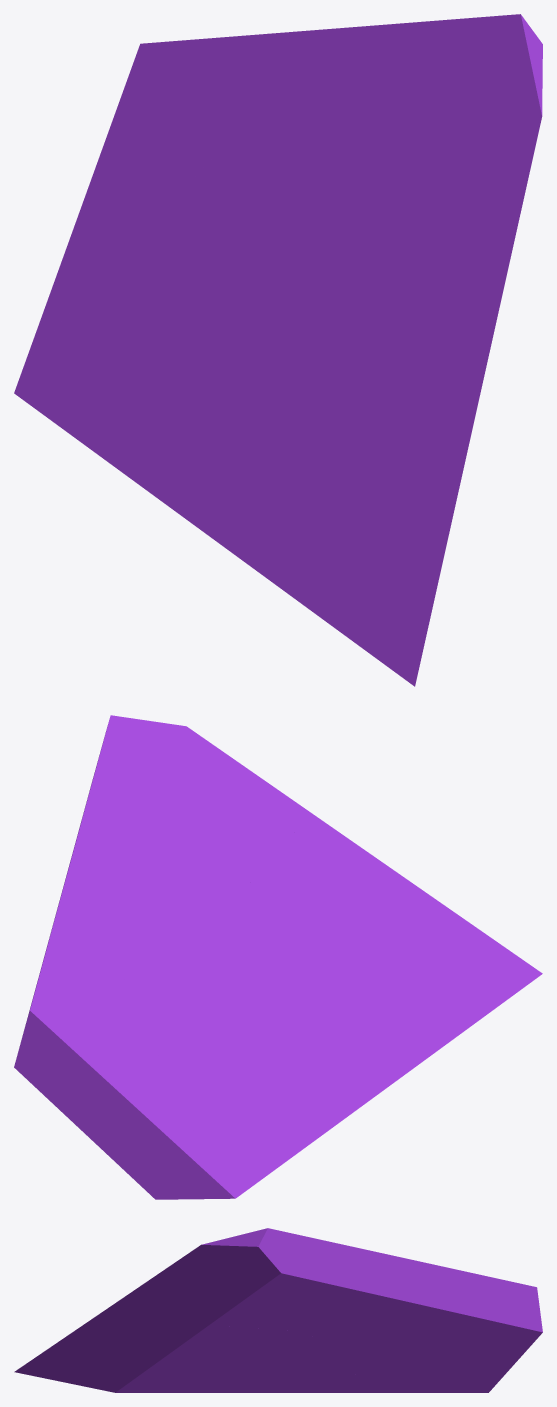
Rendered from Window_55_2_chunks.fbx.
3 renders of one model, top to bottom at view 1: azimuth 30°, elevation 25°; view 2: azimuth 150°, elevation 25°; view 3: azimuth 270°, elevation 25°, orthographic. The views are drawn at different scales.
Parts seen in each view (by area): view 1: Window_55_2_5, Window_55_2_2, Window_55_2_0, Window_55_2_1, Window_55_2_3, Window_55_2_6; view 2: Window_55_2_5, Window_55_2_2, Window_55_2_1, Window_55_2_0, Window_55_2_3, Window_55_2_6; view 3: Window_55_2_1, Window_55_2_2, Window_55_2_5, Window_55_2_4, Window_55_2_3, Window_55_2_6.
Boxes of the visible parts, bbox=[...] form: Window_55_2_5: bbox=[215, 301, 497, 686]; Window_55_2_2: bbox=[326, 14, 542, 316]; Window_55_2_0: bbox=[14, 34, 326, 434]; Window_55_2_1: bbox=[26, 29, 326, 360]; Window_55_2_3: bbox=[71, 315, 280, 539]; Window_55_2_6: bbox=[229, 240, 459, 380]; Window_55_2_5: bbox=[291, 813, 542, 1085]; Window_55_2_2: bbox=[66, 715, 311, 921]; Window_55_2_1: bbox=[14, 865, 231, 1199]; Window_55_2_0: bbox=[73, 867, 278, 1198]; Window_55_2_3: bbox=[239, 993, 388, 1166]; Window_55_2_6: bbox=[214, 837, 297, 1015]; Window_55_2_1: bbox=[306, 1258, 542, 1392]; Window_55_2_2: bbox=[135, 1228, 404, 1331]; Window_55_2_5: bbox=[14, 1289, 228, 1392]; Window_55_2_4: bbox=[153, 1300, 277, 1388]; Window_55_2_3: bbox=[226, 1356, 375, 1392]; Window_55_2_6: bbox=[210, 1325, 334, 1360].
Bounding box in the file's own units: 382 × 443 × 906.
